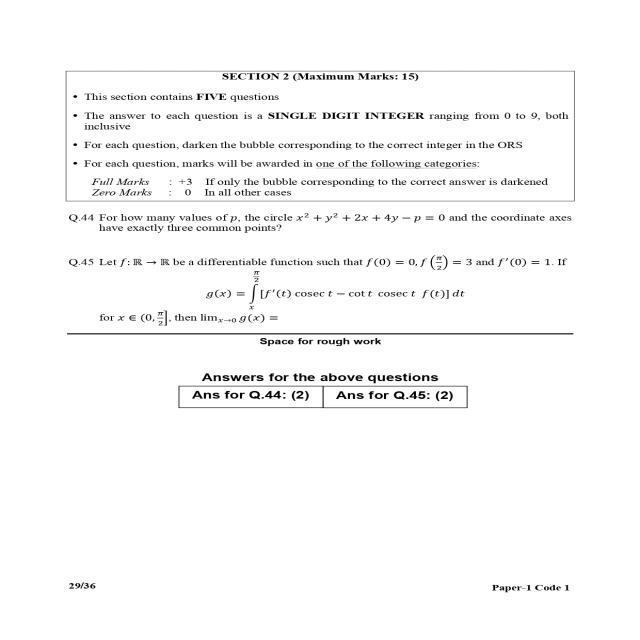Instruction: (33, 64, 606, 206), (33, 361, 606, 418)
Question_Answer_Block: (33, 250, 606, 330), (33, 207, 606, 243)
Question_Block: (33, 250, 606, 330), (33, 207, 606, 243)
Question_Paper_Area: (33, 44, 606, 447)
